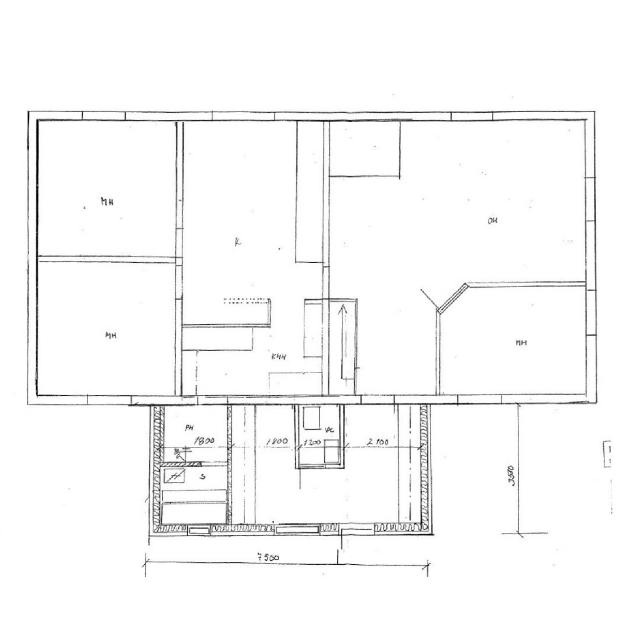door: (340, 524, 373, 569), (362, 394, 394, 435), (300, 463, 324, 492)
